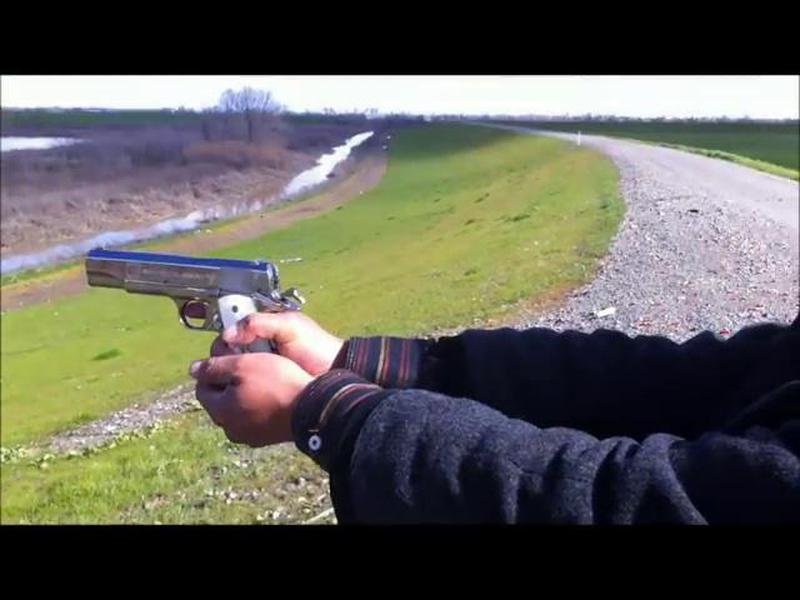Pistola: (77, 208, 286, 414)
